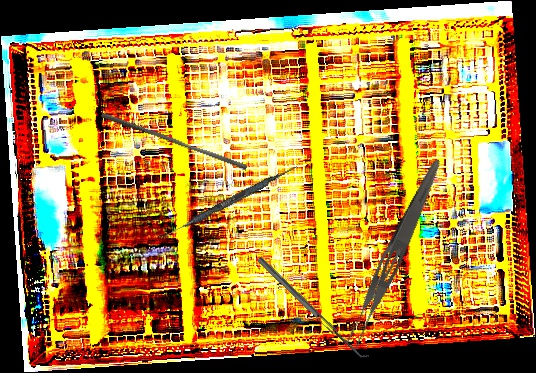Dressing Forceps: (340, 153, 446, 355)
Pusher: (99, 112, 249, 171)
Spatula Surgical: (256, 252, 372, 363), (157, 160, 299, 245)
